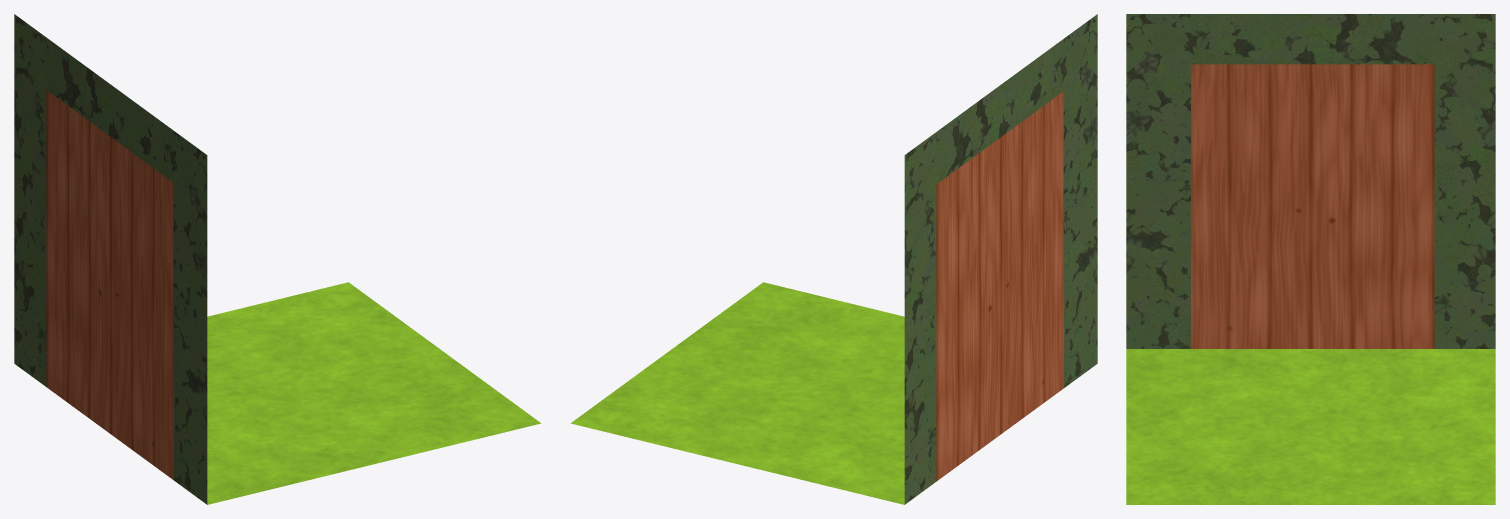
File: garden_wall_door.glb
The picture shows the model from 3 angles, left to right: view 1: azimuth 30°, elevation 25°; view 2: azimuth 150°, elevation 25°; view 3: azimuth 270°, elevation 25°; orthographic projection. The views are drawn at different scales.
Parts seen in each view (by area): view 1: ground, door; view 2: ground, door; view 3: ground, door.
Boxes of the visible parts, x1,y1,x2,y2 form: ground: (14,14,541,504); door: (46,90,173,479); ground: (570,14,1097,504); door: (936,91,1063,481); ground: (1126,14,1495,504); door: (1191,64,1434,348).
Size of the model in its own units: 2 by 2 by 2.
Materials: 3 (3 with a texture image).
